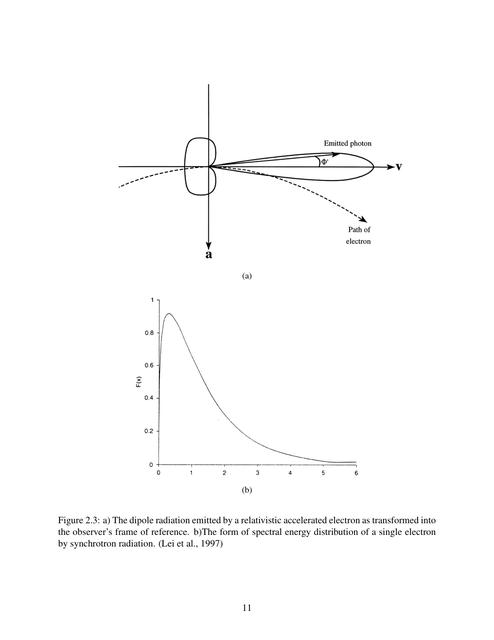box: (118, 83, 404, 282), (135, 297, 359, 495)
